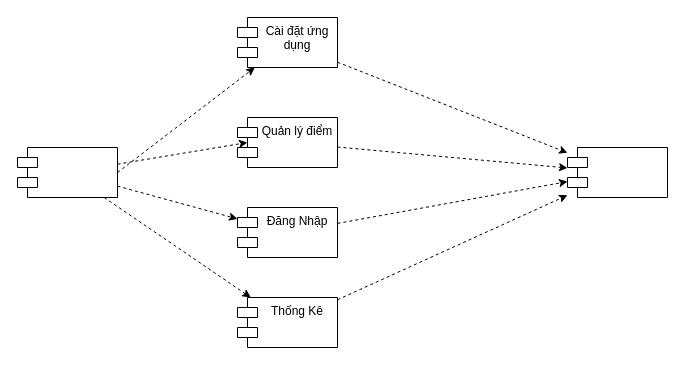
The diagram is 685 pixels wide and 365 high, and some of its shapes have lost their labels. Here are the shapes that lost their labels. From the top down, the centre of each, then its label:
(67,172): User
(617,172): Database
